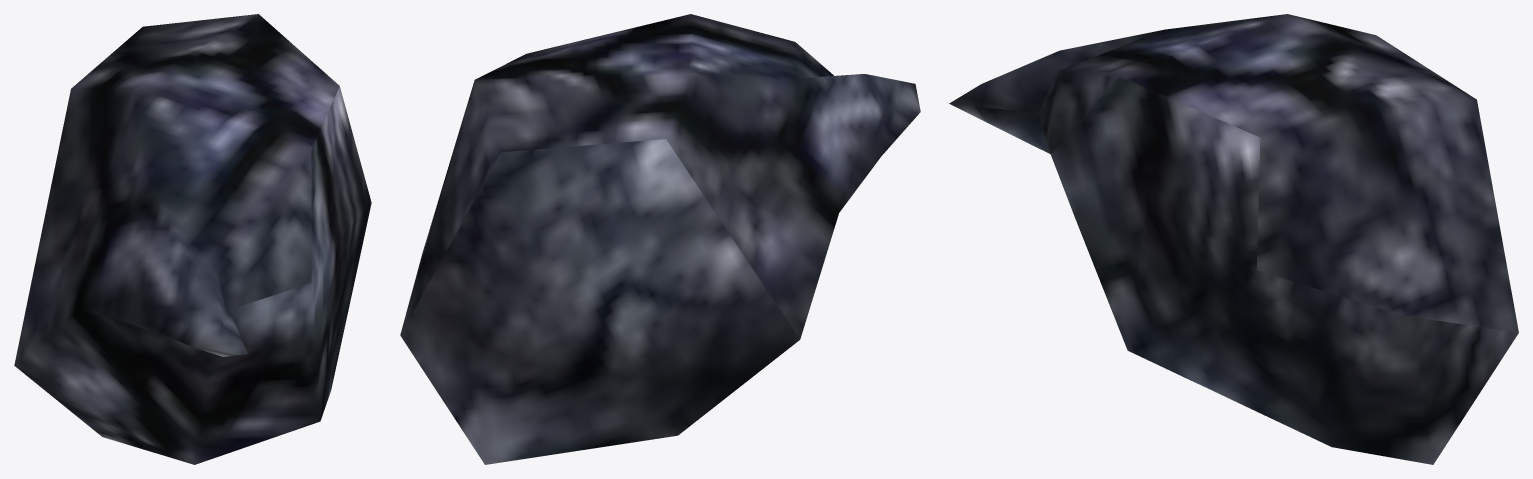
The model's file is nar_condra_7_arm_right_2.glb.
The picture shows the model from 3 angles, left to right: view 1: azimuth 30°, elevation 25°; view 2: azimuth 150°, elevation 25°; view 3: azimuth 270°, elevation 25°; orthographic projection. The views are drawn at different scales.
Parts seen in each view (by area): view 1: model_nar_condra_7_arm_right_2; view 2: model_nar_condra_7_arm_right_2; view 3: model_nar_condra_7_arm_right_2.
Part boxes in pixels (x1=…): model_nar_condra_7_arm_right_2: x1=14, y1=14, x2=371, y2=464; model_nar_condra_7_arm_right_2: x1=400, y1=14, x2=920, y2=464; model_nar_condra_7_arm_right_2: x1=949, y1=14, x2=1518, y2=464.
Size of the model in its own units: 0.3669 by 0.4015 by 0.5434.
1 material, 1 textured.
